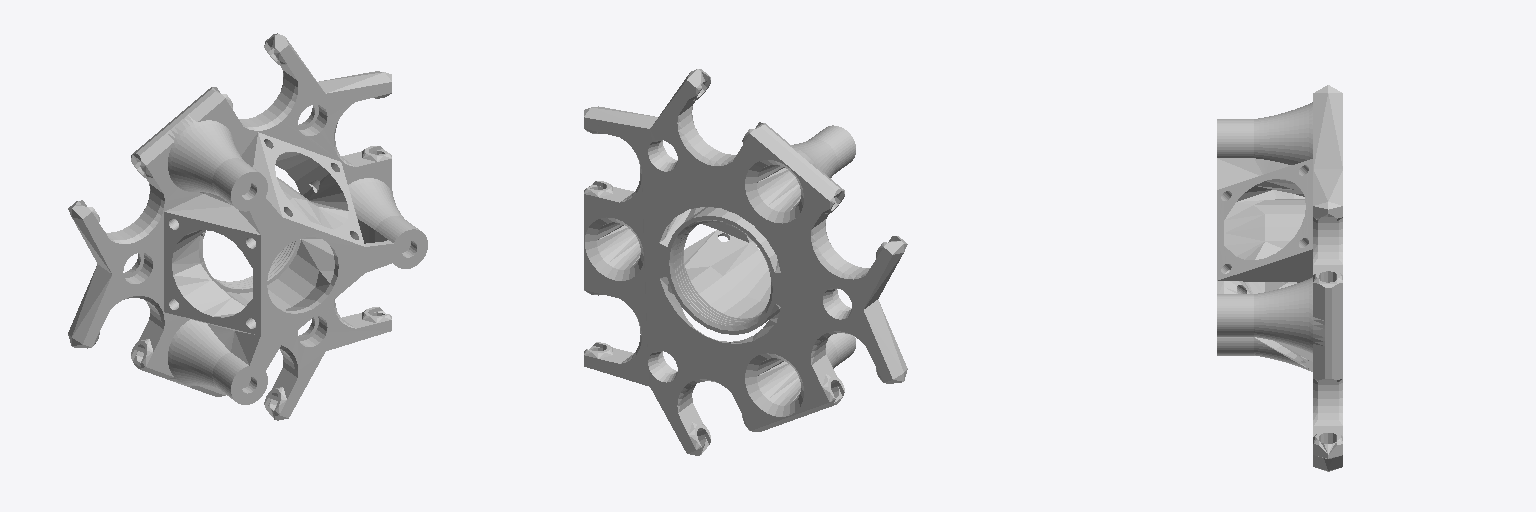
The model's file is Carriage v6-3.obj.
3 renders of one model, left to right at view 1: azimuth 30°, elevation 25°; view 2: azimuth 150°, elevation 25°; view 3: azimuth 270°, elevation 25°, orthographic.
Parts seen in each view (by area): view 1: Mesh1 Model; view 2: Mesh1 Model; view 3: Mesh1 Model.
Part boxes in pixels (left/top/right/bottom): Mesh1 Model: left=68, top=33, right=427, bottom=420; Mesh1 Model: left=584, top=69, right=907, bottom=455; Mesh1 Model: left=1217, top=85, right=1342, bottom=471.
Size of the model in its own units: 86.26 by 99.6 by 29.45.